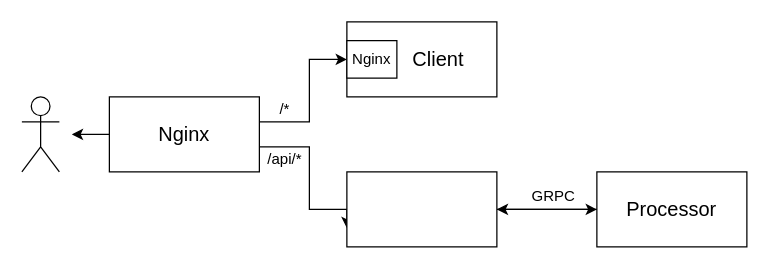
Some shapes in this 769 by 269 pixel diagram are drawn without their labels. Here are the shapes that lost their labels. From the top down, the box of each, then its label:
(21, 96, 59, 172): User
(346, 171, 497, 247): API
